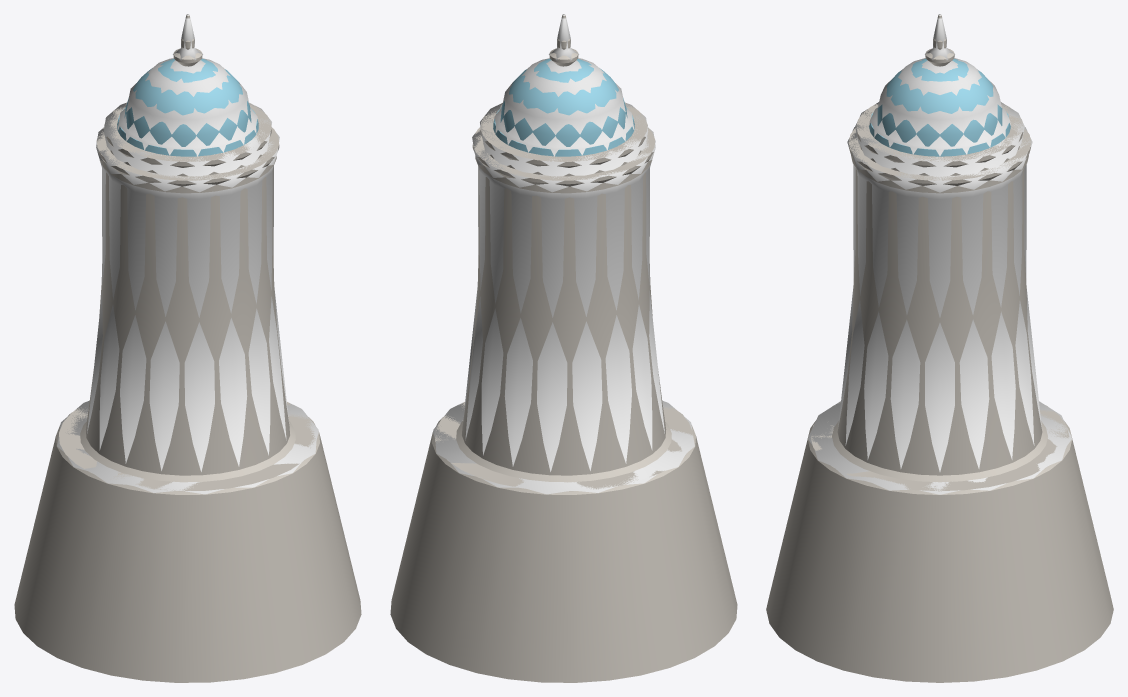
File: HubTemple_TowerSmall.dae
The picture shows the model from 3 angles, left to right: view 1: azimuth 30°, elevation 25°; view 2: azimuth 150°, elevation 25°; view 3: azimuth 270°, elevation 25°; orthographic projection.
Visible parts, largest first — view 1: SmallTower, Coll_SmallTower; view 2: SmallTower, Coll_SmallTower; view 3: SmallTower, Coll_SmallTower.
Boxes of the visible parts, <box> form: SmallTower: <box>14,15,361,682</box>; Coll_SmallTower: <box>57,14,318,494</box>; SmallTower: <box>390,15,737,682</box>; Coll_SmallTower: <box>433,14,694,494</box>; SmallTower: <box>766,15,1113,682</box>; Coll_SmallTower: <box>808,14,1071,494</box>.
Size of the model in its own units: 1243 by 1243 by 2347.
